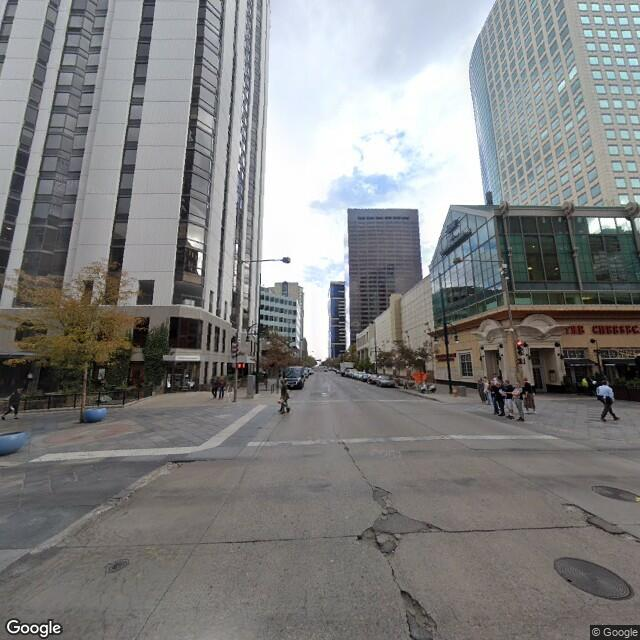fh: (449, 387, 461, 398)
lamp: (230, 251, 295, 333)
